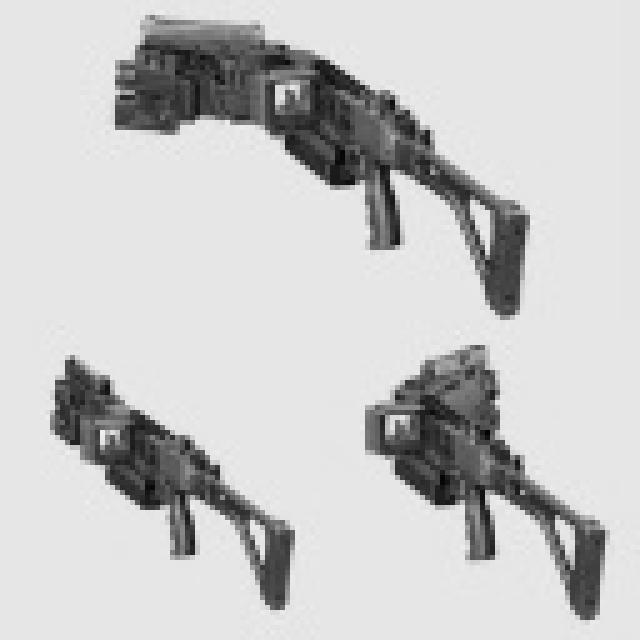Rifle: (103, 1, 584, 332), (338, 301, 640, 631), (14, 323, 316, 631)
